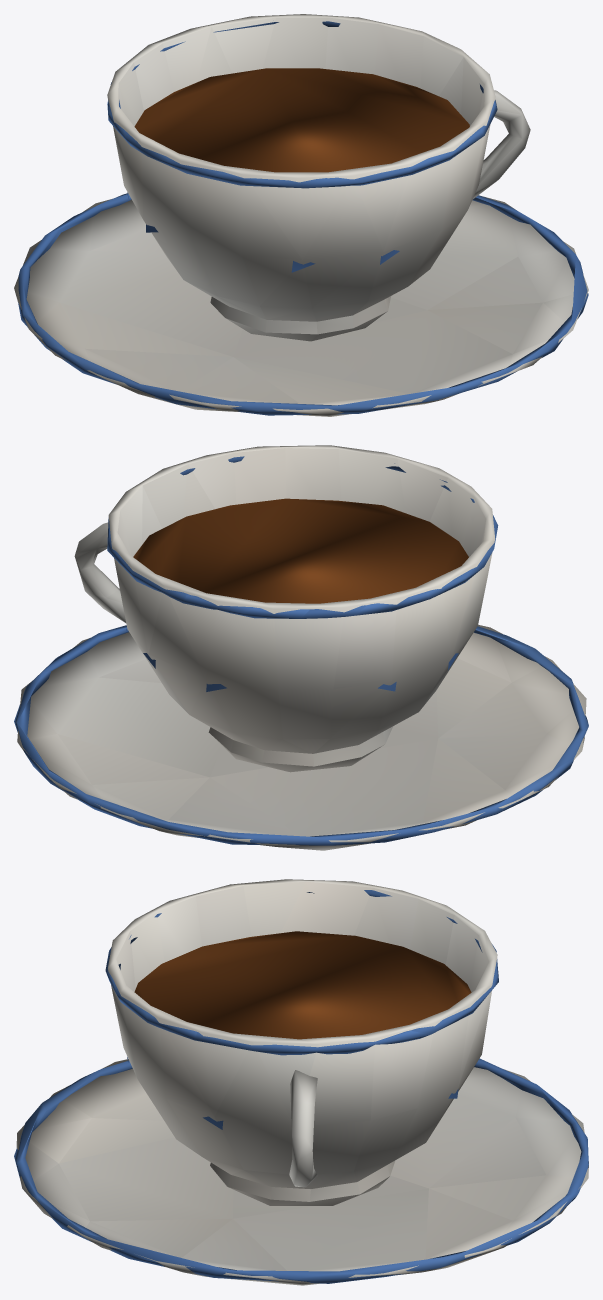
The model's file is frost_teacup_lod2.glb.
3 renders of one model, top to bottom at view 1: azimuth 30°, elevation 25°; view 2: azimuth 150°, elevation 25°; view 3: azimuth 270°, elevation 25°, orthographic.
Visible parts, largest first — view 1: frost_teacup.001; view 2: frost_teacup.001; view 3: frost_teacup.001.
Part boxes in pixels (left/top/right/bottom): frost_teacup.001: left=14, top=14, right=588, bottom=416; frost_teacup.001: left=14, top=445, right=588, bottom=850; frost_teacup.001: left=14, top=879, right=588, bottom=1285.
Size of the model in its own units: 46.76 by 21.11 by 46.63.
